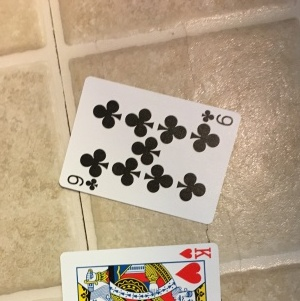card: (58, 75, 242, 226)
